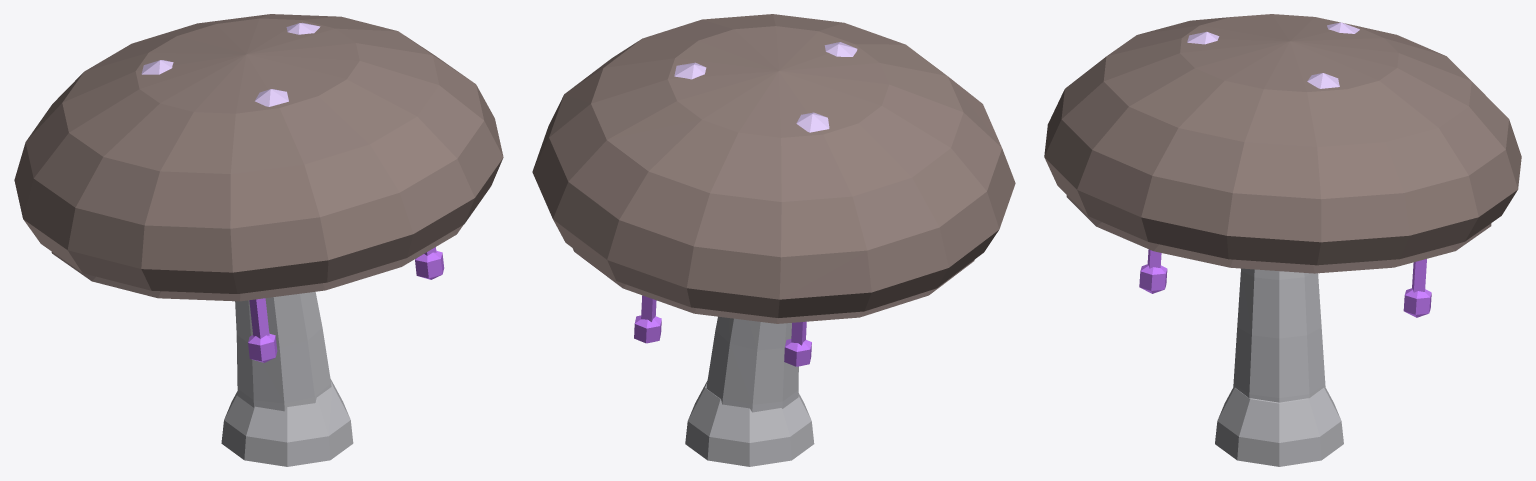
Rendered from plant_agarilux_b.obj.
3 renders of one model, left to right at view 1: azimuth 30°, elevation 25°; view 2: azimuth 150°, elevation 25°; view 3: azimuth 270°, elevation 25°, orthographic. The views are drawn at different scales.
Parts seen in each view (by area): view 1: plant_agarilux_b_3, plant_agarilux_b_0, plant_agarilux_b_1, plant_agarilux_b_2, plant_agarilux_b_15, plant_agarilux_b_17, plant_agarilux_b_14; view 2: plant_agarilux_b_3, plant_agarilux_b_1, plant_agarilux_b_0, plant_agarilux_b_2, plant_agarilux_b_19, plant_agarilux_b_21, plant_agarilux_b_7; view 3: plant_agarilux_b_3, plant_agarilux_b_0, plant_agarilux_b_1, plant_agarilux_b_2, plant_agarilux_b_19, plant_agarilux_b_17.
Boxes of the visible parts, x1=… form: plant_agarilux_b_3: x1=14, y1=14, x2=503, y2=293; plant_agarilux_b_0: x1=235, y1=291, x2=331, y2=411; plant_agarilux_b_1: x1=221, y1=379, x2=353, y2=466; plant_agarilux_b_2: x1=51, y1=225, x2=463, y2=301; plant_agarilux_b_15: x1=248, y1=333, x2=277, y2=362; plant_agarilux_b_17: x1=415, y1=250, x2=444, y2=279; plant_agarilux_b_14: x1=249, y1=298, x2=269, y2=338; plant_agarilux_b_3: x1=532, y1=14, x2=1015, y2=317; plant_agarilux_b_1: x1=685, y1=380, x2=814, y2=466; plant_agarilux_b_0: x1=706, y1=316, x2=798, y2=412; plant_agarilux_b_2: x1=573, y1=248, x2=974, y2=323; plant_agarilux_b_19: x1=634, y1=315, x2=661, y2=343; plant_agarilux_b_21: x1=784, y1=339, x2=811, y2=366; plant_agarilux_b_7: x1=796, y1=112, x2=829, y2=132; plant_agarilux_b_3: x1=1044, y1=14, x2=1521, y2=265; plant_agarilux_b_0: x1=1233, y1=268, x2=1325, y2=402; plant_agarilux_b_1: x1=1215, y1=388, x2=1343, y2=466; plant_agarilux_b_2: x1=1066, y1=195, x2=1491, y2=273; plant_agarilux_b_19: x1=1403, y1=288, x2=1431, y2=317; plant_agarilux_b_17: x1=1139, y1=264, x2=1167, y2=293.
Size of the model in its own units: 0.9456 by 0.8426 by 0.9463.
